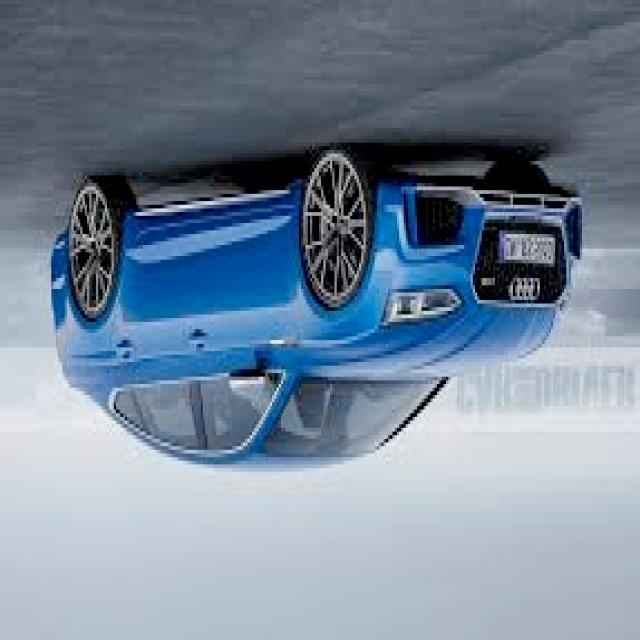blue: (49, 128, 586, 472)
